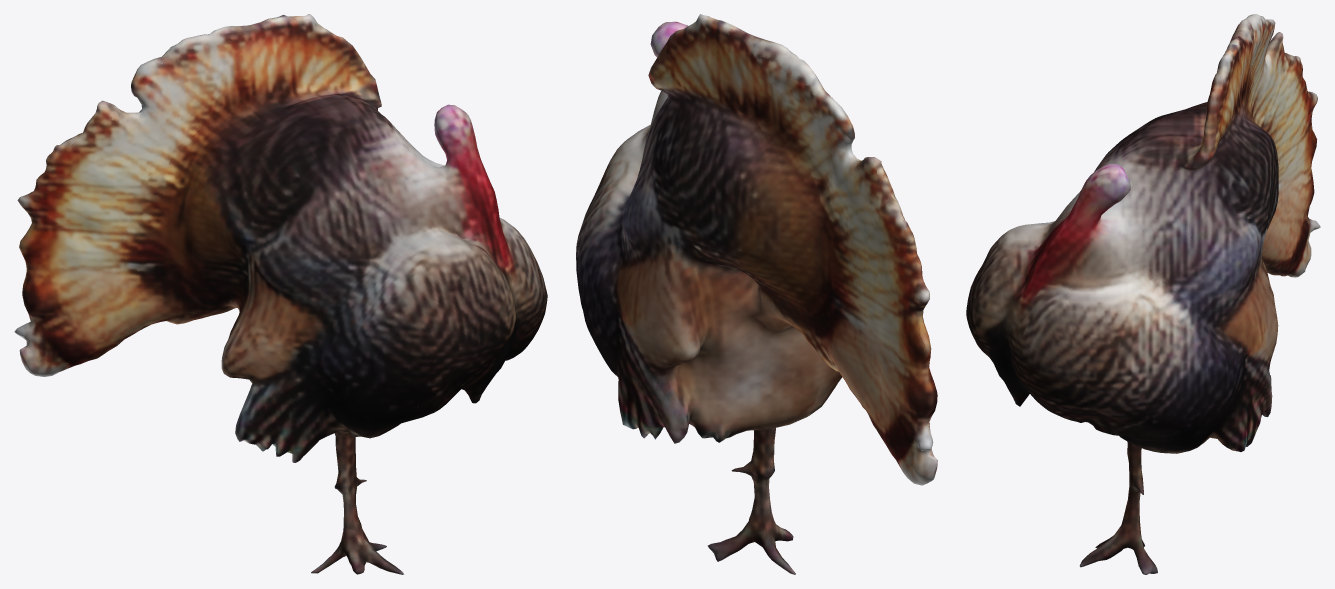
The model's file is adulto.glb.
The picture shows the model from 3 angles, left to right: view 1: azimuth 30°, elevation 25°; view 2: azimuth 150°, elevation 25°; view 3: azimuth 270°, elevation 25°; orthographic projection. The views are drawn at different scales.
Visible parts, largest first — view 1: mesh; view 2: mesh; view 3: mesh.
Part boxes in pixels (x1=…): mesh: x1=14, y1=14, x2=547, y2=574; mesh: x1=576, y1=14, x2=937, y2=574; mesh: x1=966, y1=14, x2=1320, y2=574.
Size of the model in its own units: 1.51 by 1.85 by 1.17.
1 material, 1 textured.
